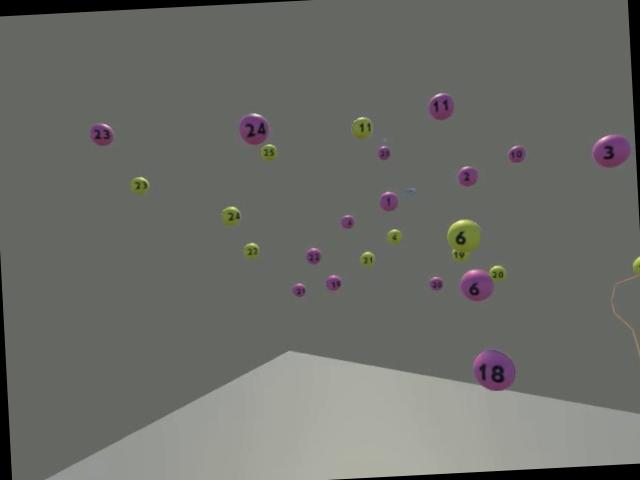ball_01_pink: (380, 192, 398, 210)
ball_02_pink: (456, 164, 478, 186)
ball_03_pink: (590, 134, 632, 168)
ball_04_pink: (340, 215, 354, 229)
ball_04_yellow: (387, 228, 402, 246)
ball_06_pink: (458, 268, 494, 302)
ball_06_yellow: (445, 218, 482, 253)
ball_10_pink: (506, 144, 525, 162)
ball_11_pink: (428, 92, 453, 120)
ball_11_yellow: (350, 116, 372, 138)
ball_18_pink: (471, 347, 516, 391)
ball_19_pink: (325, 274, 342, 292)
ball_19_yellow: (450, 247, 470, 263)
ball_20_pink: (428, 275, 444, 292)
ball_20_yellow: (488, 264, 508, 282)
ball_21_pink: (292, 283, 306, 298)
ball_21_yellow: (358, 252, 376, 268)
ball_22_pink: (304, 248, 322, 264)
ball_22_yellow: (242, 243, 259, 258)
ball_23_pink: (88, 122, 114, 146)
ball_23_yellow: (130, 176, 150, 194)
ball_24_pink: (237, 112, 270, 146)
ball_24_yellow: (220, 205, 241, 225)
ball_25_pink: (376, 145, 391, 160)
ball_25_yellow: (260, 143, 277, 161)
ball_unknown: (631, 255, 640, 275)
